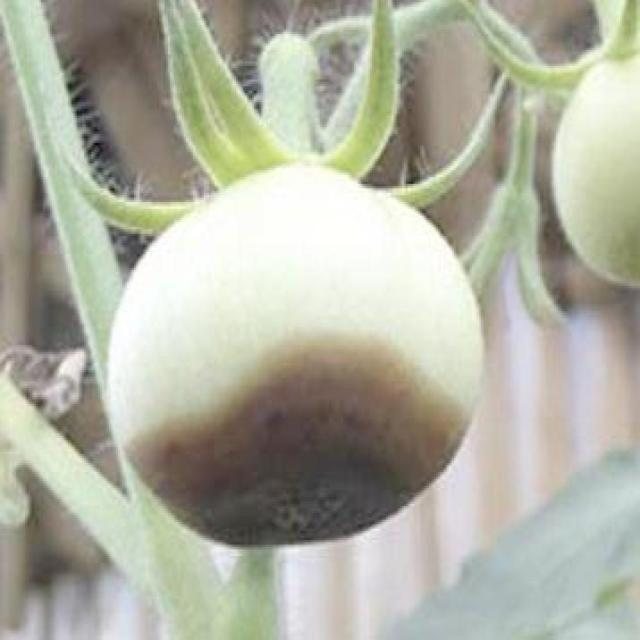Blossom End Rot Fruit: (77, 215, 320, 363)
